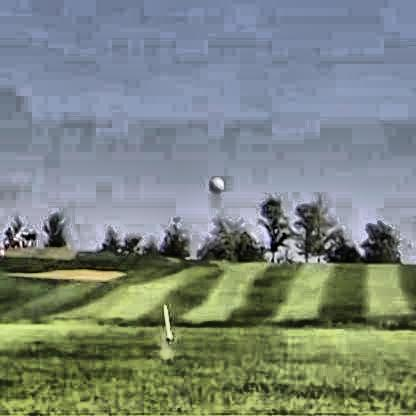golfball: (207, 174, 223, 192)
